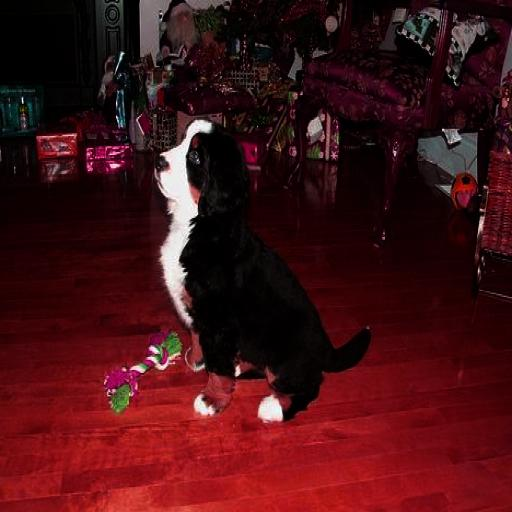dog_face: (150, 114, 244, 215)
